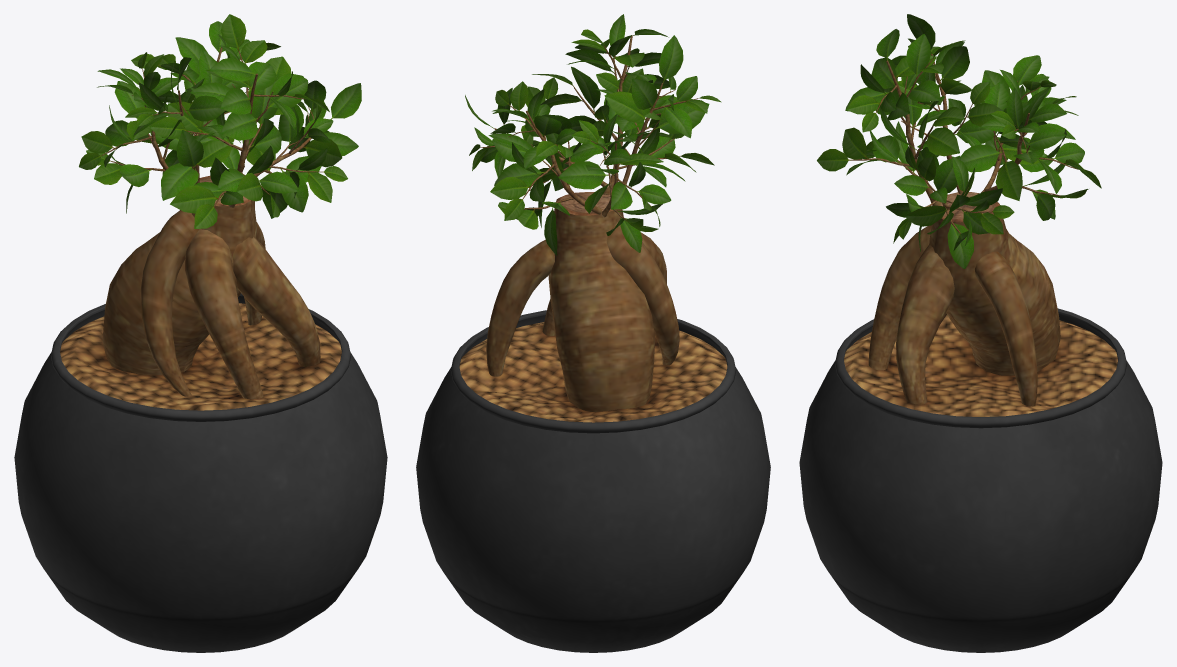
Rendered from BP_RoomPlantsSet01_GajumaruB.fbx.
3 renders of one model, left to right at view 1: azimuth 30°, elevation 25°; view 2: azimuth 150°, elevation 25°; view 3: azimuth 270°, elevation 25°, orthographic. The views are drawn at different scales.
Parts seen in each view (by area): view 1: Hachi, Ha, Miki, Hydroball, Ha_ura, Eda; view 2: Hachi, Ha, Miki, Hydroball, Ha_ura, Eda; view 3: Hachi, Ha, Miki, Hydroball, Ha_ura, Eda.
Part boxes in pixels (x1,y1,x2,y2): Hachi: [14, 293, 387, 652]; Ha: [79, 14, 361, 228]; Miki: [102, 176, 320, 399]; Hydroball: [60, 303, 341, 410]; Ha_ura: [80, 15, 361, 228]; Eda: [102, 47, 321, 207]; Hachi: [416, 310, 770, 652]; Ha: [465, 14, 721, 255]; Miki: [486, 192, 679, 411]; Hydroball: [459, 322, 727, 422]; Ha_ura: [465, 14, 720, 254]; Eda: [481, 35, 697, 221]; Hachi: [799, 308, 1162, 652]; Ha: [817, 14, 1101, 268]; Miki: [868, 192, 1060, 406]; Hydroball: [844, 315, 1117, 416]; Ha_ura: [818, 14, 1099, 267]; Eda: [851, 54, 1077, 239].
Size of the model in its own units: 13.97 by 25.3 by 13.97.
